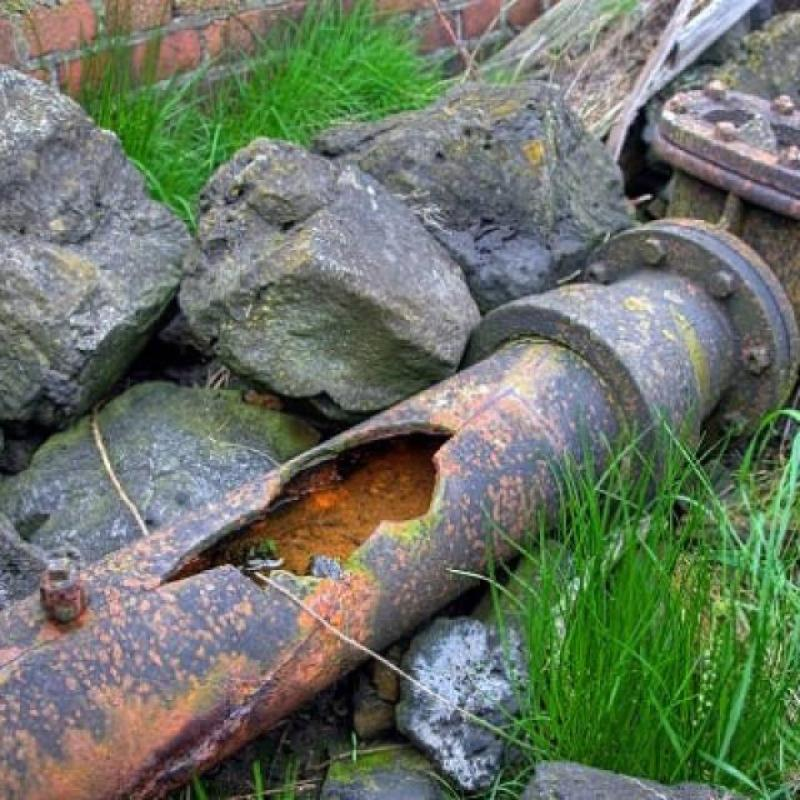Fracture: (150, 405, 465, 583)
